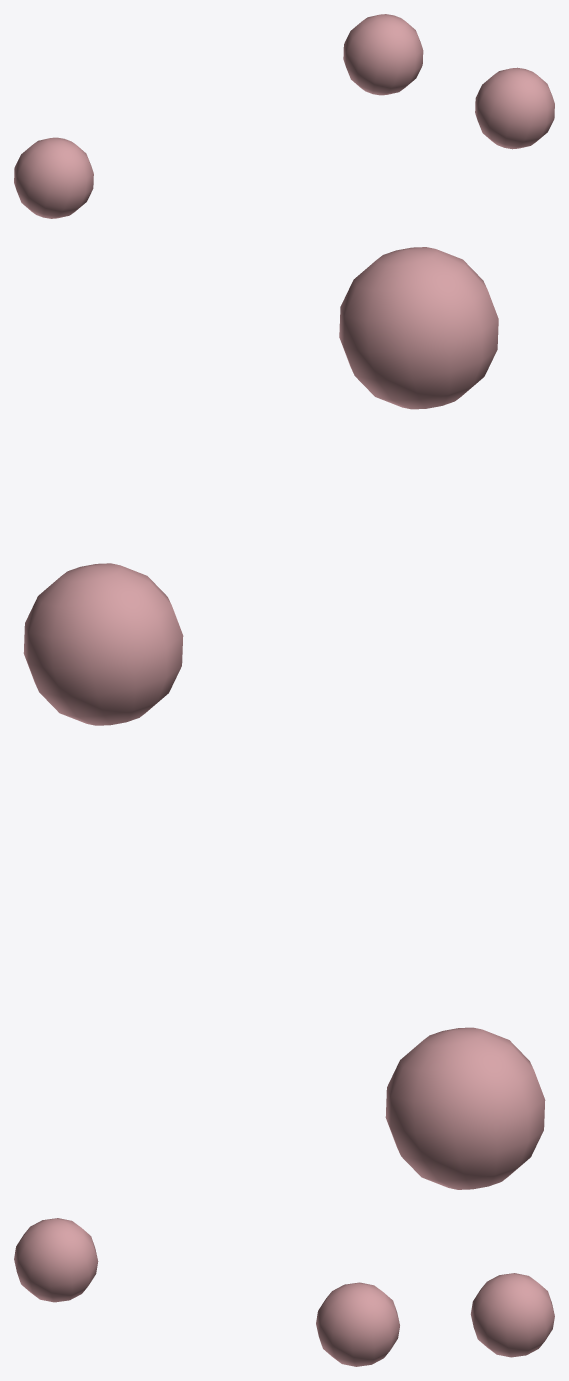
3 views of the same model, one above another, from view 1: azimuth 30°, elevation 25°; view 2: azimuth 150°, elevation 25°; view 3: azimuth 270°, elevation 25° (orthographic). The views are drawn at different scales.
Visible parts, largest first — view 1: ZA_13616a7b002be8bd; view 2: ZA_13616a7b002be8bd; view 3: ZA_13616a7b002be8bd.
Part boxes in pixels (x1,y1,x2,y2): ZA_13616a7b002be8bd: (14,14,554,218); ZA_13616a7b002be8bd: (23,247,545,1189); ZA_13616a7b002be8bd: (14,1218,554,1366).
Bounding box in the file's own units: 0.0119 × 0.00857 × 0.0165.
